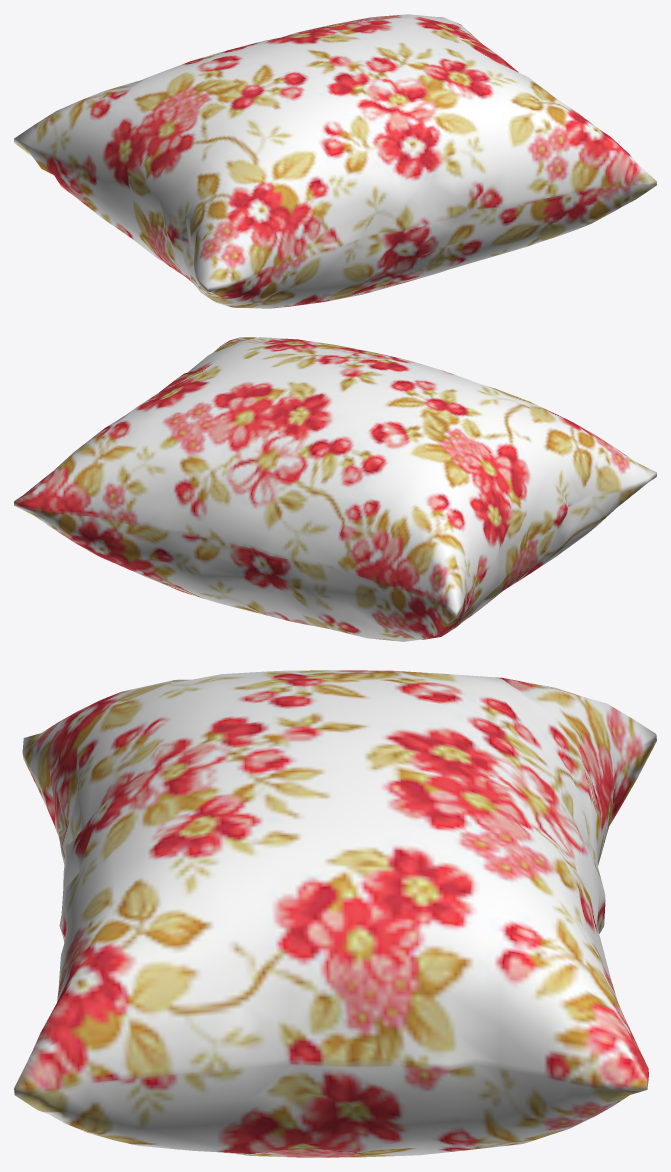
The model's file is copper conova 2.fbx.
3 views of the same model, one above another, from view 1: azimuth 30°, elevation 25°; view 2: azimuth 150°, elevation 25°; view 3: azimuth 270°, elevation 25° (orthographic). The views are drawn at different scales.
Visible parts, largest first — view 1: pillow Copper Grove Aanekoski.002; view 2: pillow Copper Grove Aanekoski.002; view 3: pillow Copper Grove Aanekoski.002.
Boxes of the visible parts, bbox=[...] form: pillow Copper Grove Aanekoski.002: bbox=[14, 14, 656, 308]; pillow Copper Grove Aanekoski.002: bbox=[14, 337, 656, 641]; pillow Copper Grove Aanekoski.002: bbox=[14, 670, 656, 1157].
Size of the model in its own units: 0.55 by 0.2585 by 0.4255.
